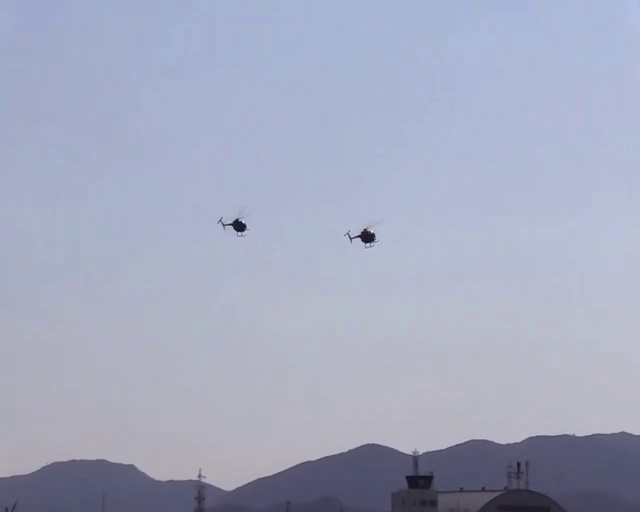HELICOPTER: (344, 220, 383, 248)
